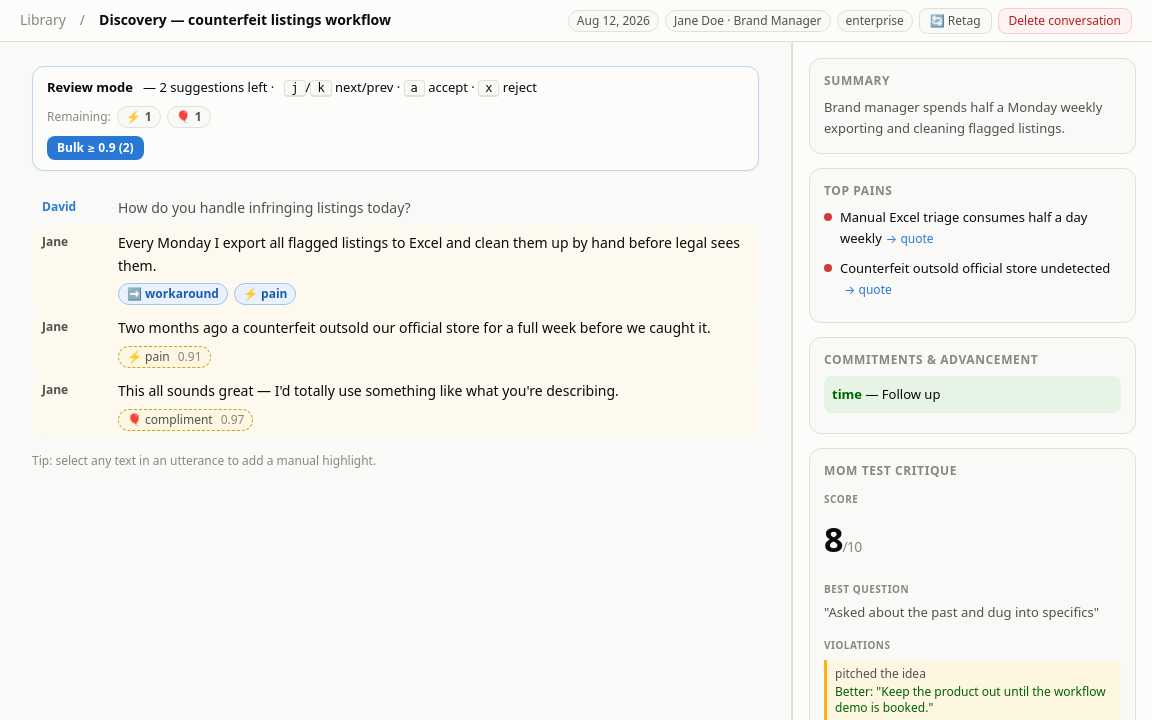
T17 — Optimistic mutation on accept/reject › rejecting a chip removes it from the UI immediately (optimistic)
Expected: the text "0.91" is shown, [178, 349, 202, 365]
Click the button "⚡ pain 0.91" at coordinates (164, 357), box [118, 346, 210, 368]
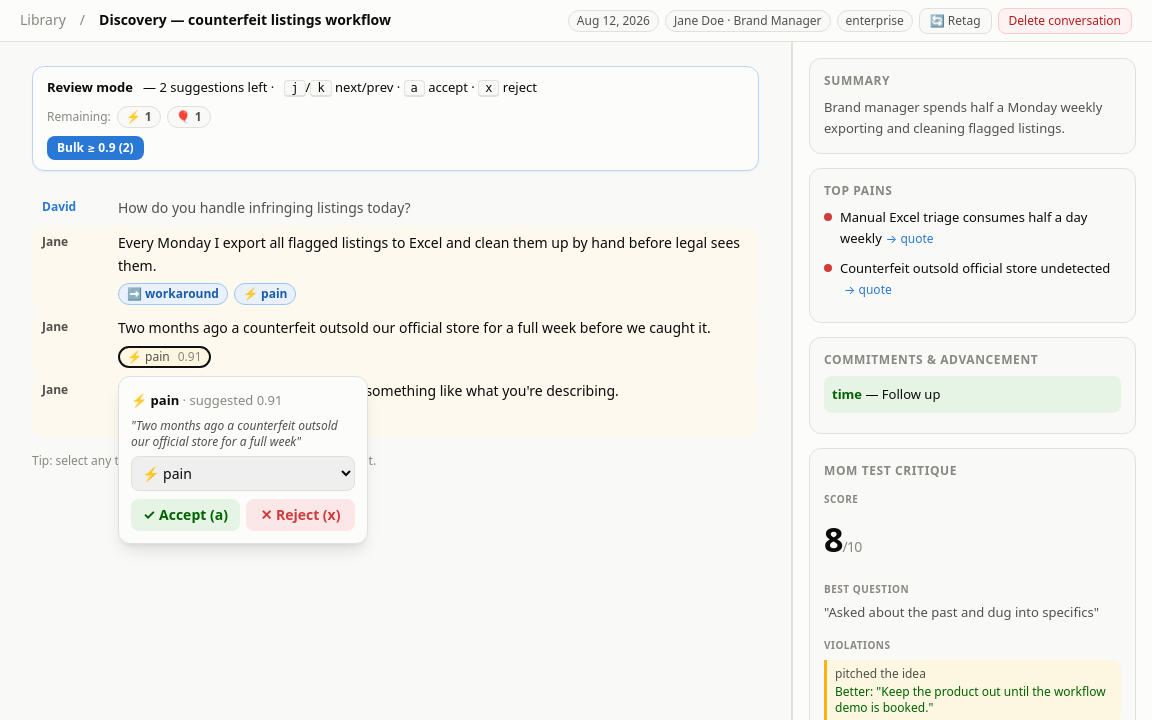
Now the button "✕ Reject (x)" is shown
Click the button "✕ Reject (x)" at coordinates (300, 515), box [246, 499, 355, 531]
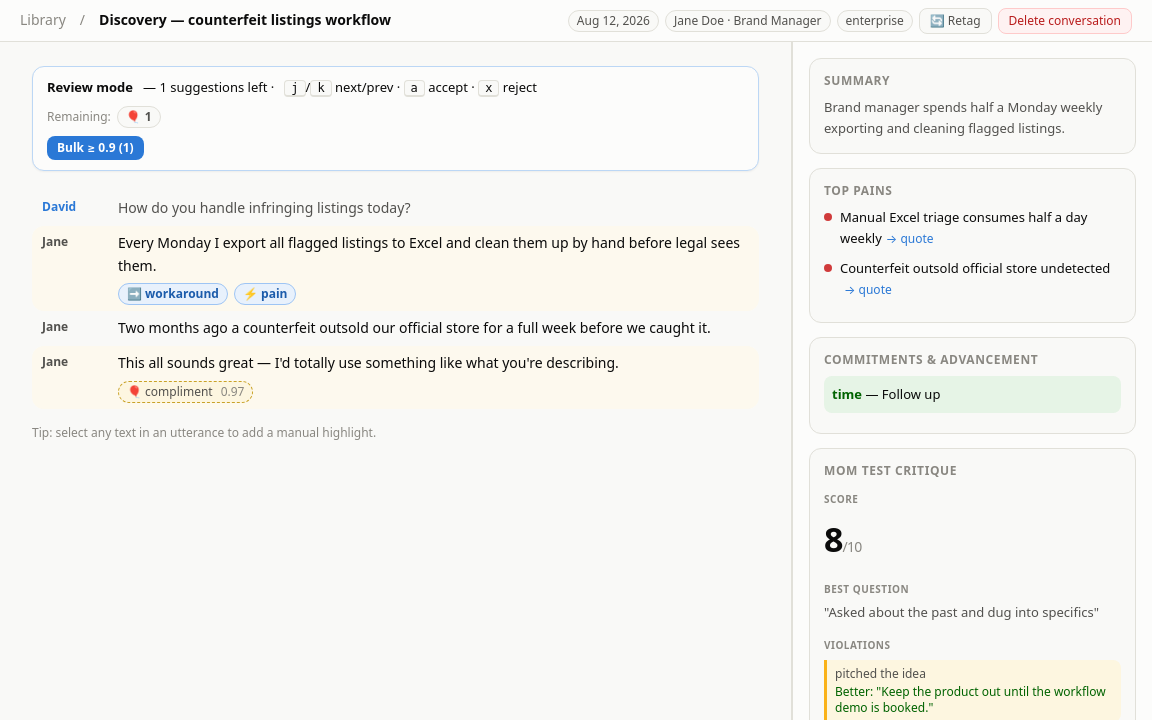
Now the button "0.91" is gone
